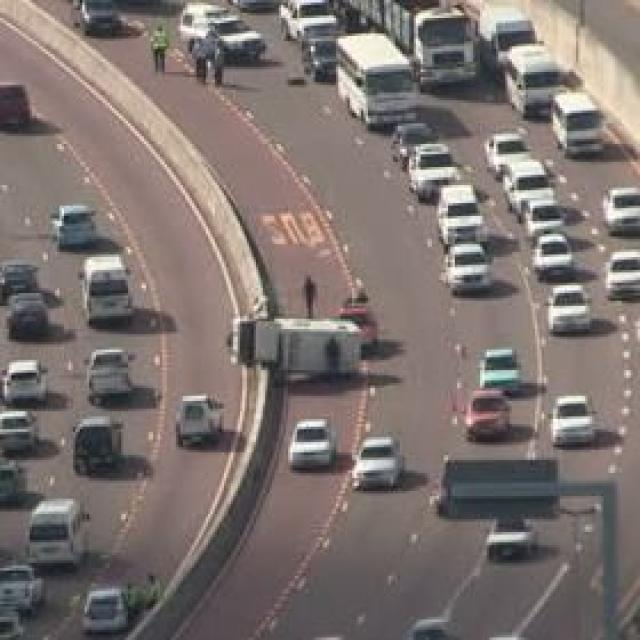traffic_incident: (210, 285, 375, 378)
